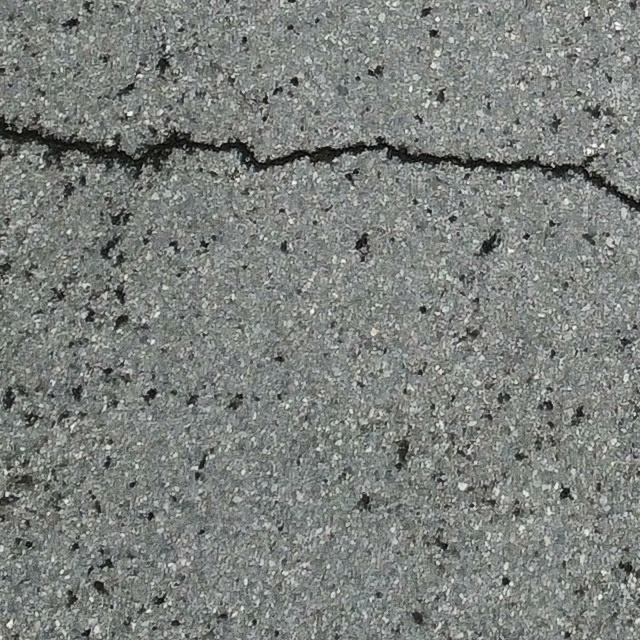TransverseCrack: (1, 114, 640, 211)
